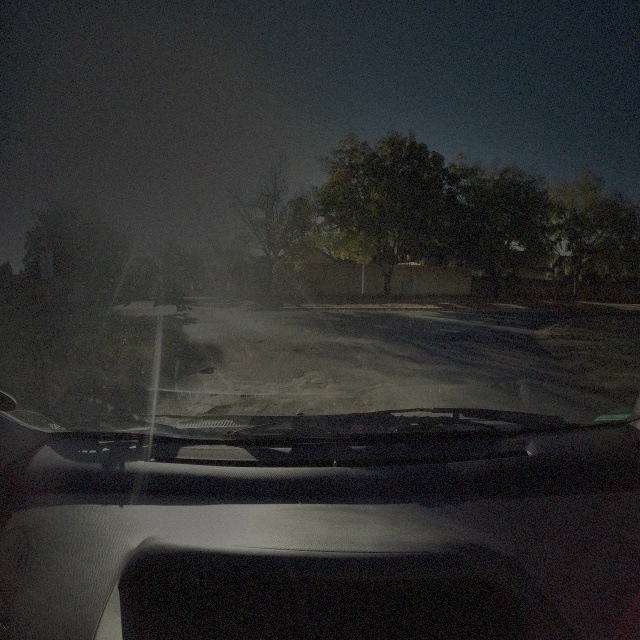pothole: (205, 400, 238, 418), (238, 391, 254, 402), (198, 367, 218, 375), (290, 346, 302, 354)
